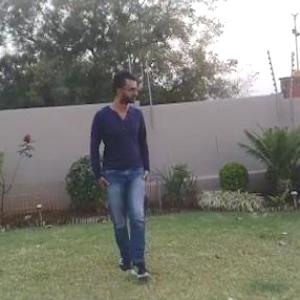follow: (86, 66, 155, 285)
